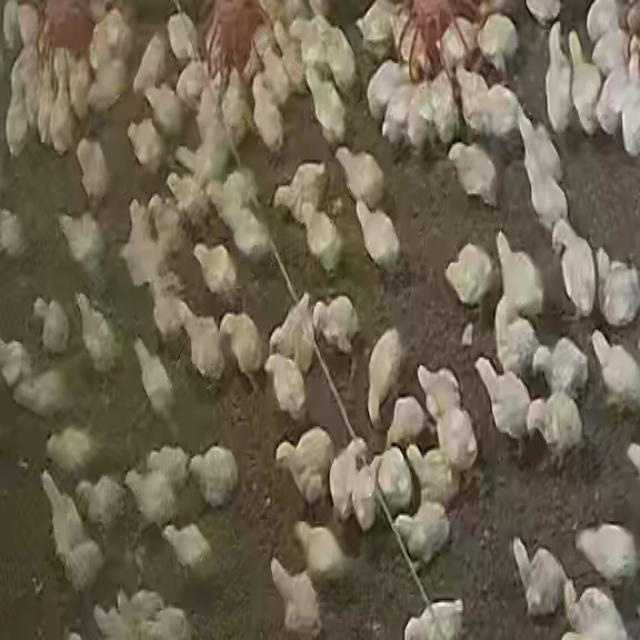chicken: (40, 471, 104, 593), (3, 336, 73, 422), (176, 92, 233, 194), (473, 356, 533, 452), (492, 230, 544, 332), (274, 426, 336, 508), (511, 539, 568, 619), (550, 219, 596, 318), (588, 329, 640, 416), (269, 555, 324, 637), (523, 391, 581, 468), (490, 295, 539, 384), (365, 326, 406, 431), (573, 522, 636, 589), (176, 304, 226, 388), (565, 27, 603, 137), (220, 184, 271, 265), (392, 499, 451, 569), (532, 333, 590, 403), (268, 293, 316, 376), (404, 441, 460, 512), (131, 338, 175, 428), (415, 362, 464, 442), (74, 294, 121, 376), (218, 312, 266, 392), (292, 518, 352, 581), (275, 161, 331, 228), (304, 64, 348, 148), (543, 22, 574, 136), (515, 154, 566, 223), (188, 444, 241, 510), (444, 241, 495, 308), (58, 211, 106, 281), (263, 351, 309, 423), (74, 472, 129, 532), (160, 520, 214, 580), (517, 110, 563, 180), (141, 76, 185, 148), (562, 586, 625, 635), (449, 143, 497, 206), (165, 170, 213, 233), (598, 255, 640, 326), (46, 424, 100, 478), (337, 144, 384, 206), (476, 10, 518, 79), (303, 204, 342, 278), (404, 596, 469, 640), (126, 114, 168, 182), (149, 279, 189, 350), (312, 295, 360, 354), (192, 241, 239, 301), (250, 68, 282, 153), (271, 20, 311, 88), (129, 471, 174, 531), (358, 202, 396, 273), (75, 134, 111, 208), (325, 441, 362, 513), (317, 12, 354, 84), (364, 59, 404, 125), (354, 1, 398, 61), (47, 64, 76, 154), (132, 31, 170, 99), (127, 198, 157, 284), (443, 401, 478, 474), (384, 394, 428, 452), (4, 68, 32, 158), (256, 39, 297, 100), (219, 70, 250, 149), (589, 14, 626, 76), (85, 61, 124, 119), (33, 294, 70, 355), (173, 54, 210, 115), (88, 9, 127, 66), (622, 43, 640, 159), (153, 193, 186, 256), (165, 8, 200, 66), (597, 71, 627, 138), (434, 21, 474, 67), (355, 456, 379, 532), (291, 20, 325, 72), (148, 445, 188, 489), (113, 584, 160, 621), (409, 87, 433, 159), (1, 335, 31, 392), (381, 448, 408, 510), (434, 76, 459, 142), (141, 605, 188, 640), (489, 83, 518, 137), (385, 83, 410, 142), (463, 64, 485, 130), (1, 208, 28, 260), (89, 609, 133, 640)
